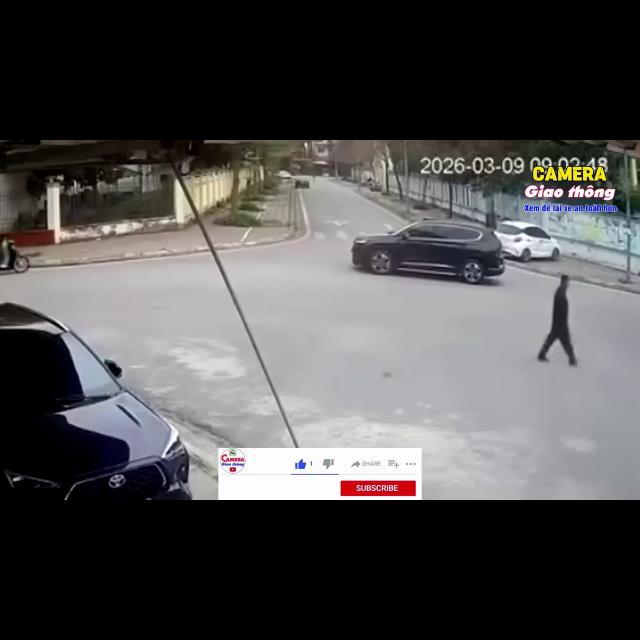car: (0, 303, 191, 499), (352, 219, 504, 283), (495, 221, 560, 261), (295, 179, 309, 188), (278, 170, 291, 179)
